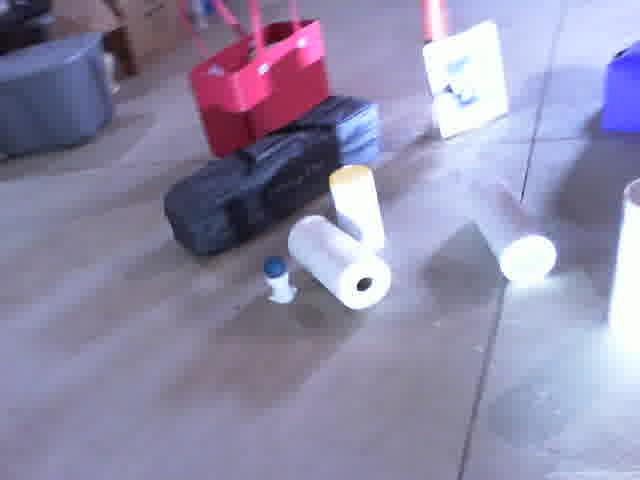coral: (462, 165, 560, 288), (600, 175, 640, 339)
